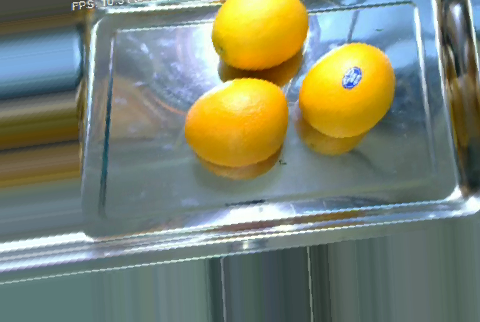Orange: (184, 77, 289, 169), (298, 41, 395, 138), (210, 0, 309, 69)
